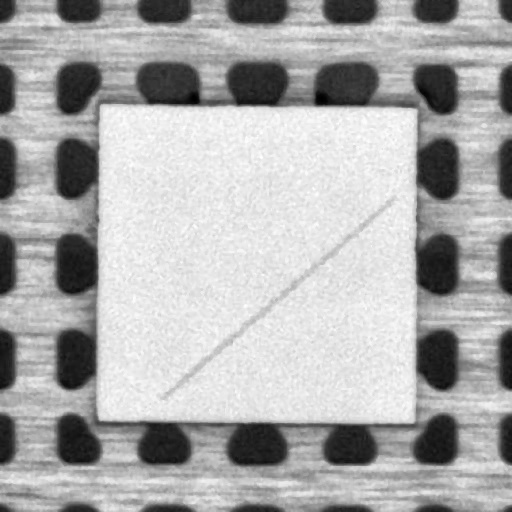DIE_CRACK: (161, 199, 390, 398)
